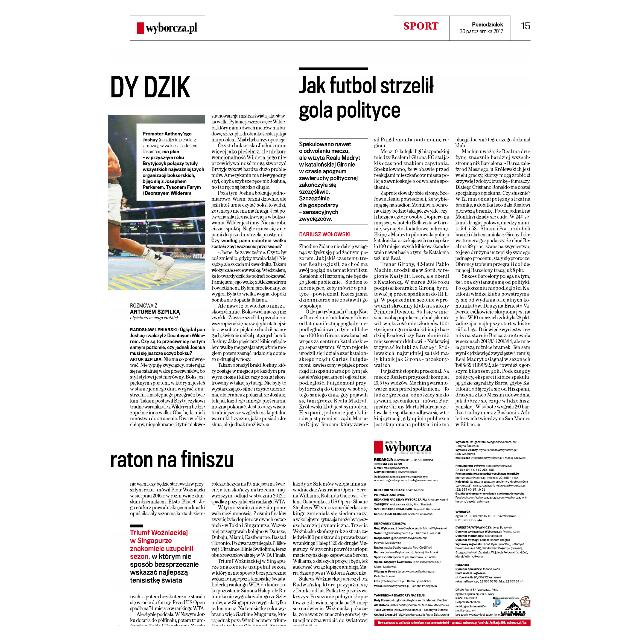article: (298, 66, 532, 432)
